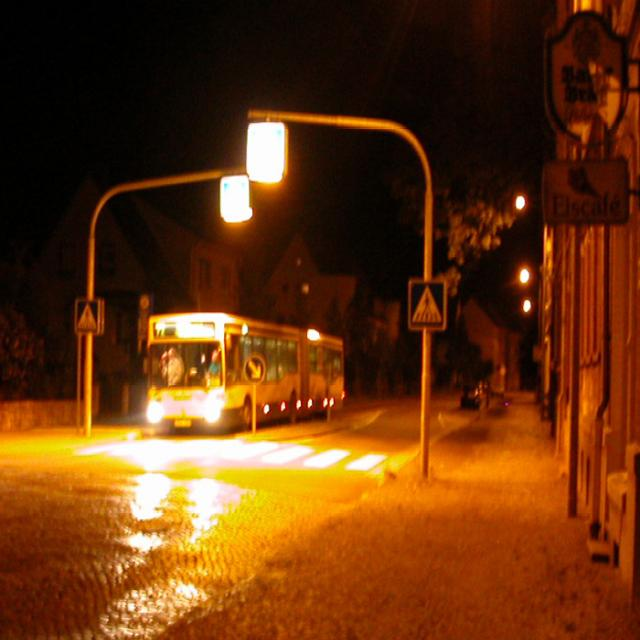Bus: (128, 306, 359, 440)
